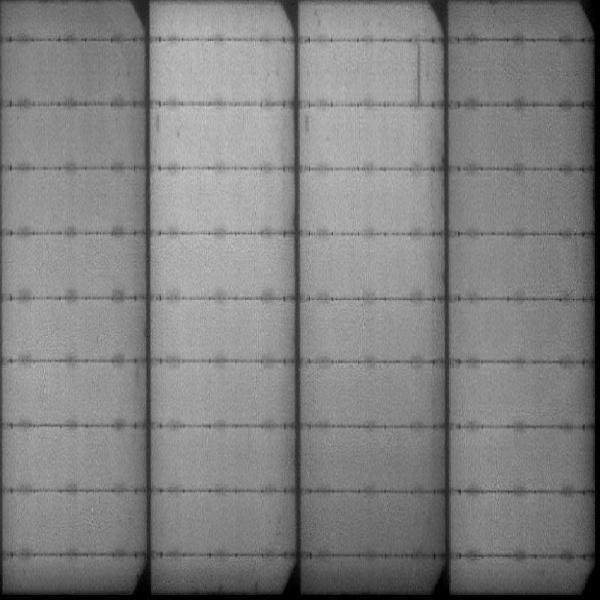scratch: (413, 43, 425, 111)
